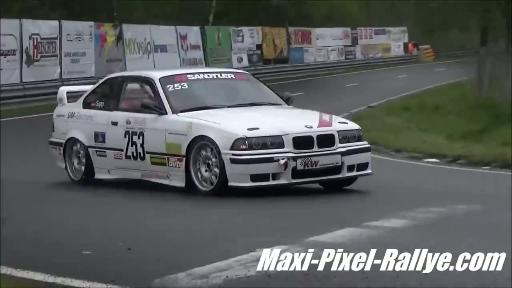CAR: (44, 59, 387, 210)
